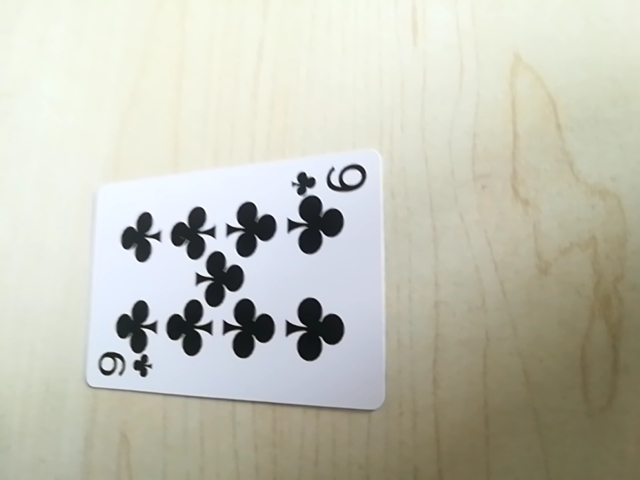mh 9: (291, 159, 372, 196), (92, 347, 155, 385)
